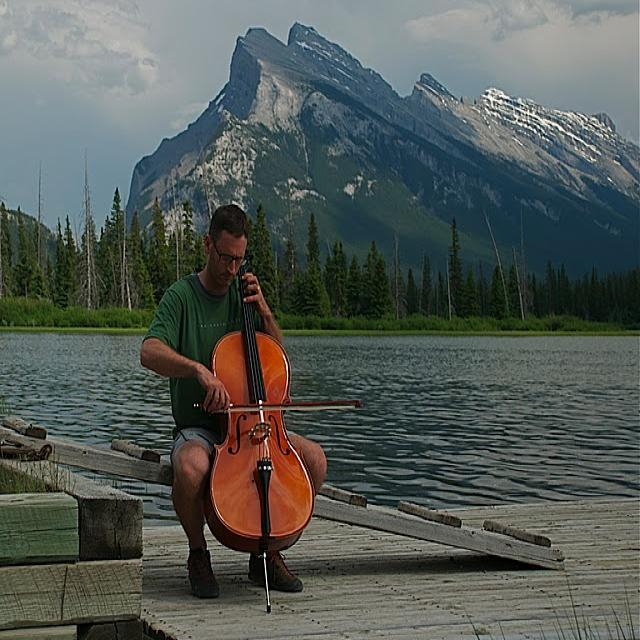cello: (202, 256, 321, 556)
